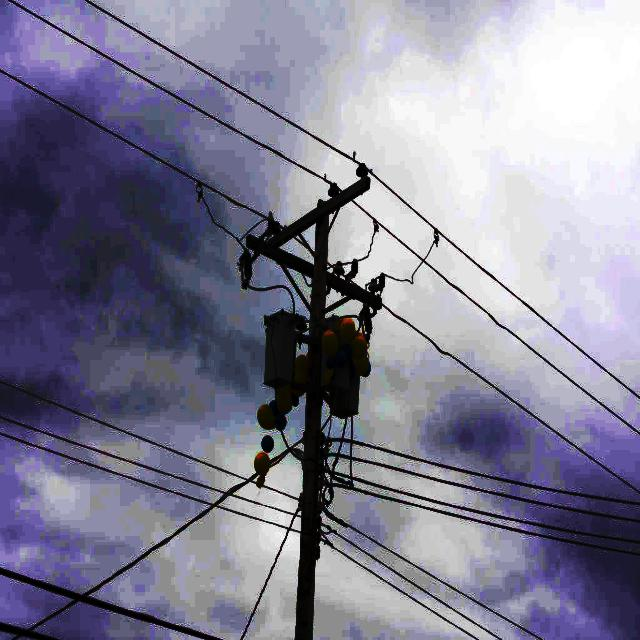obstruction: (321, 318, 369, 385), (258, 384, 302, 429), (254, 436, 272, 485), (294, 355, 309, 382)
poles: (241, 164, 380, 639)
wires: (94, 0, 639, 392), (0, 78, 289, 591), (329, 205, 639, 487), (0, 0, 326, 224), (358, 180, 639, 428), (21, 0, 355, 186), (352, 311, 639, 500), (314, 487, 639, 639), (96, 455, 301, 639), (355, 448, 639, 516)
